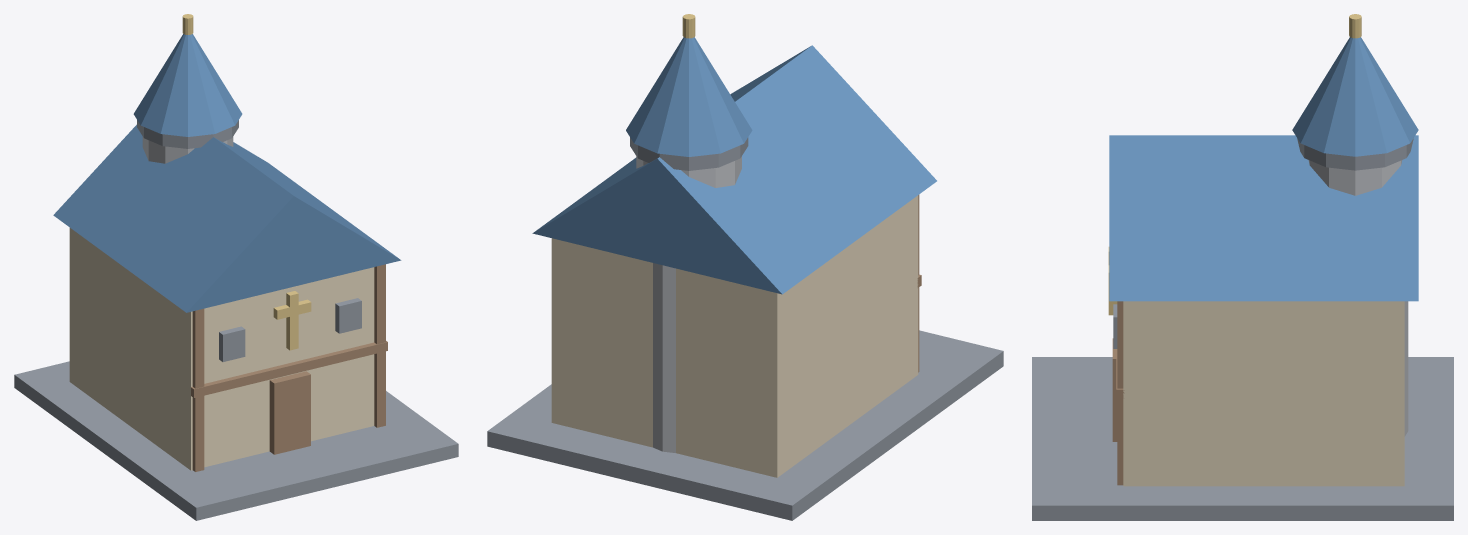
Rendered from templo.glb.
The picture shows the model from 3 angles, left to right: view 1: azimuth 30°, elevation 25°; view 2: azimuth 150°, elevation 25°; view 3: azimuth 270°, elevation 25°; orthographic projection. The views are drawn at different scales.
Visible parts, largest first — view 1: world; view 2: world; view 3: world.
Part boxes in pixels (box(x1,y1,x2,y2)): world: box(14, 14, 458, 520); world: box(487, 14, 1003, 520); world: box(1032, 14, 1453, 520).
Size of the model in its own units: 5 by 6.75 by 6.
